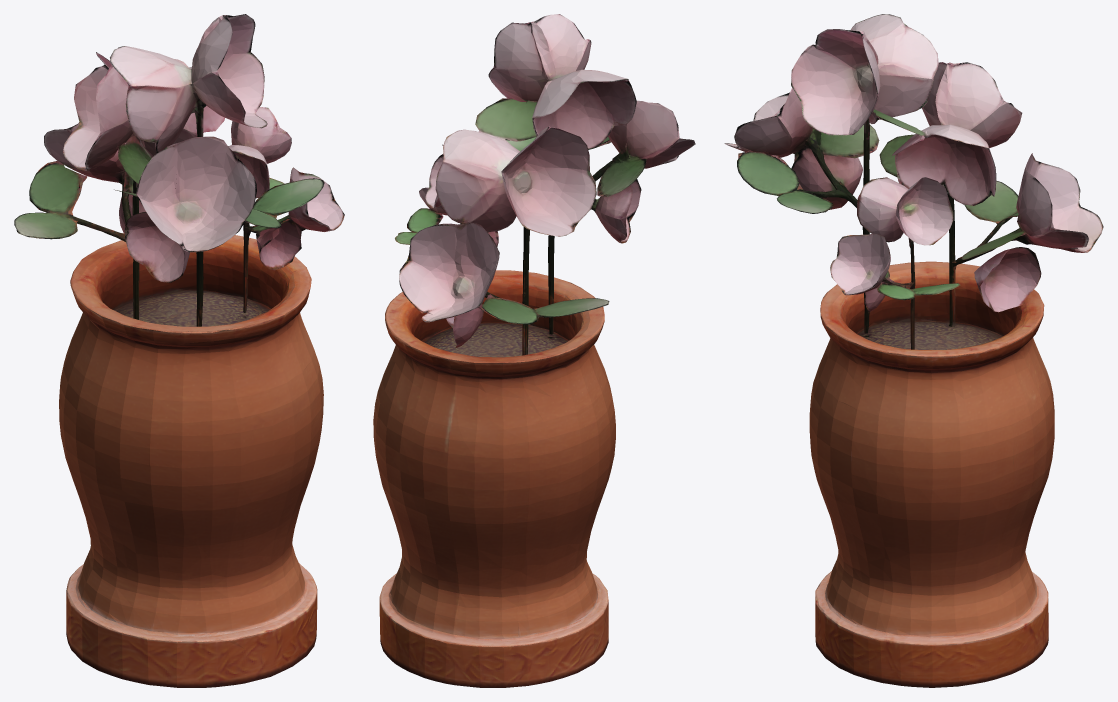
The model's file is PartObjaverseTiny_TwentyTwo.glb.
The picture shows the model from 3 angles, left to right: view 1: azimuth 30°, elevation 25°; view 2: azimuth 150°, elevation 25°; view 3: azimuth 270°, elevation 25°; orthographic projection. The views are drawn at different scales.
Visible parts, largest first — view 1: world; view 2: world; view 3: world.
Part boxes in pixels (x1=…): world: x1=14, y1=14, x2=344, y2=687; world: x1=373, y1=14, x2=695, y2=687; world: x1=724, y1=14, x2=1103, y2=687.
Bounding box in the file's own units: 0.4234 × 0.9985 × 0.566.
Materials: 1 (1 with a texture image).
